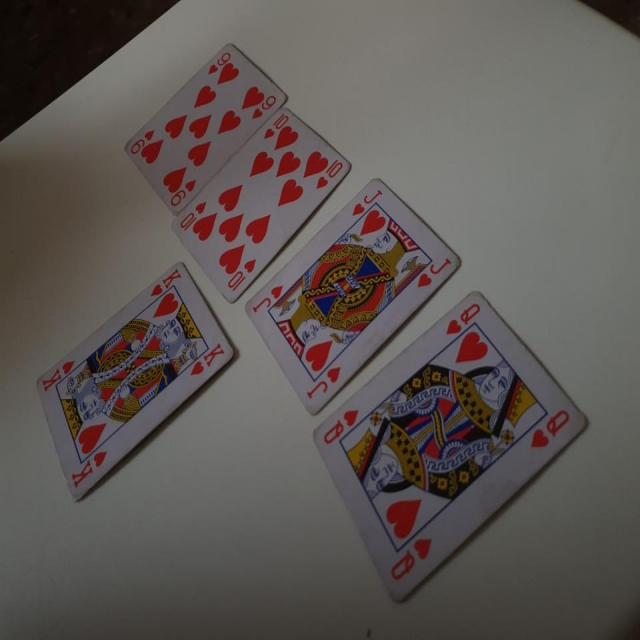10 Hearts: (162, 103, 351, 312)
9 Hearts: (114, 38, 296, 217)
J Hearts: (236, 171, 466, 417)
K Hearts: (32, 257, 236, 519)
Q Hearts: (308, 290, 592, 594)
